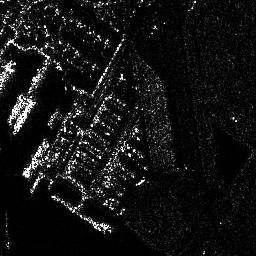ship: (22, 137, 49, 178), (12, 99, 37, 134), (8, 92, 27, 125)
